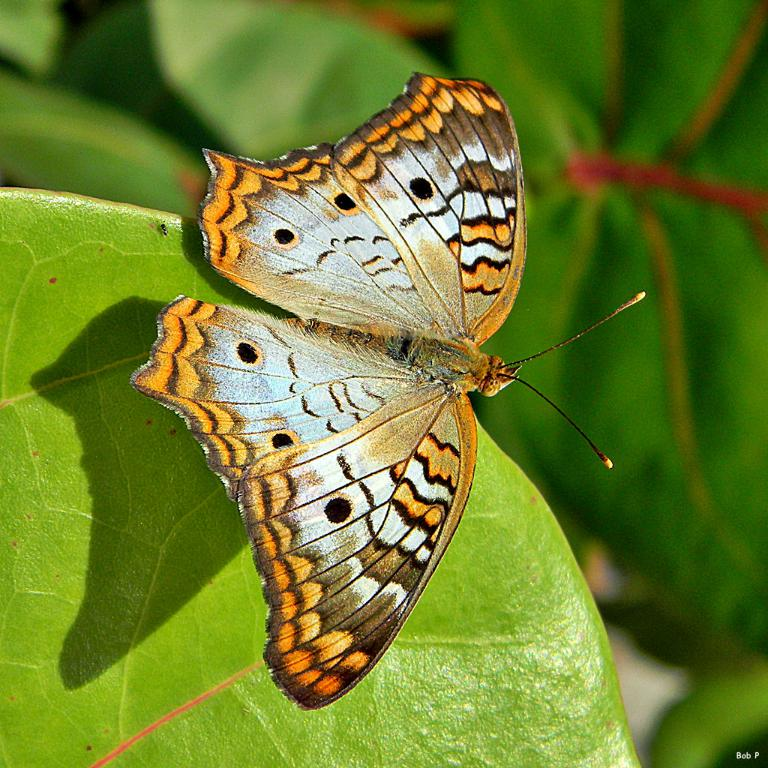Butterfly: (141, 64, 521, 708)
